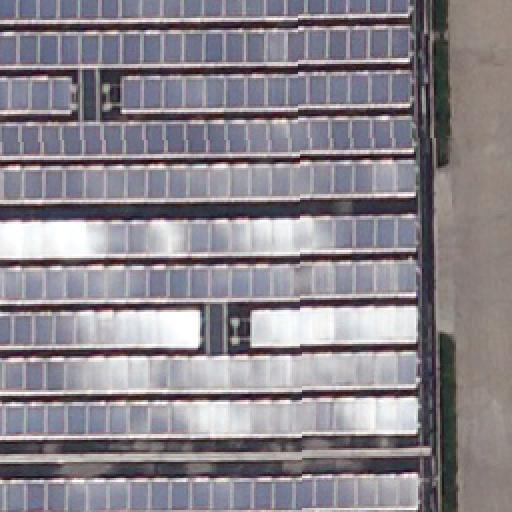solar-panel: (0, 0, 420, 442), (0, 470, 424, 510)
